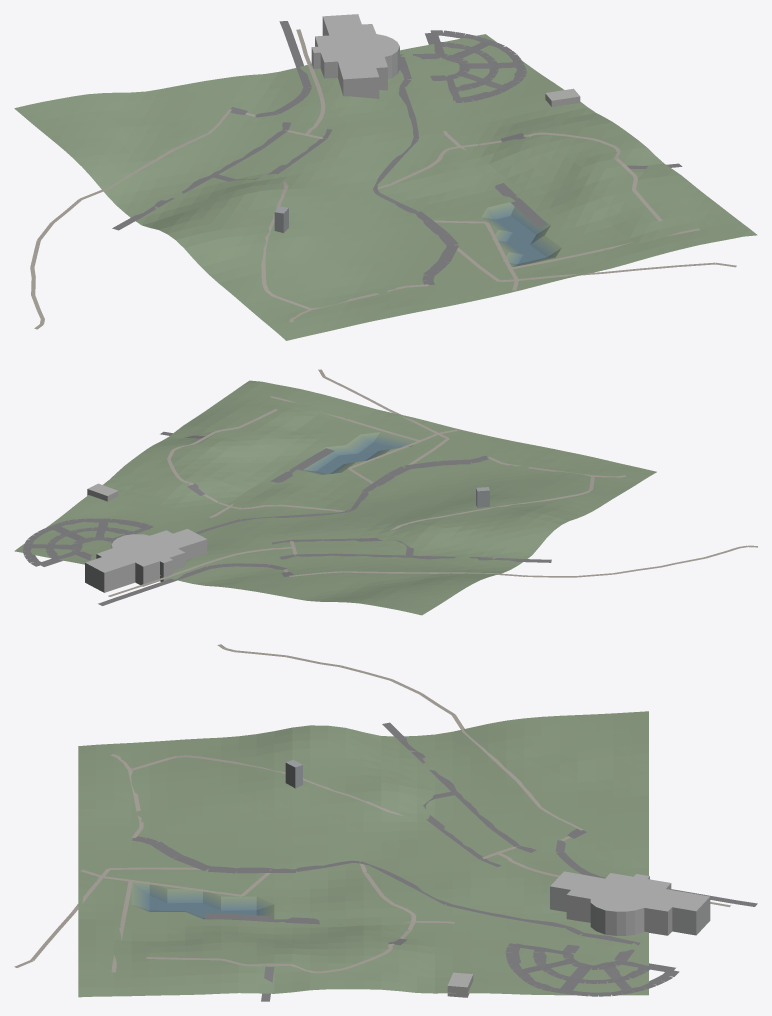
File: tile_6_-5.glb
3 views of the same model, one above another, from view 1: azimuth 30°, elevation 25°; view 2: azimuth 150°, elevation 25°; view 3: azimuth 270°, elevation 25° (orthographic). The views are drawn at different scales.
Parts seen in each view (by area): view 1: terrain, roads, buildings, paths; view 2: terrain, roads, buildings, paths; view 3: terrain, roads, buildings, paths.
Part boxes in pixels (x1,y1,x2,y2): terrain: [14, 34, 757, 340]; roads: [112, 21, 682, 284]; buildings: [274, 14, 580, 232]; paths: [30, 29, 736, 329]; terrain: [14, 380, 656, 615]; roads: [23, 431, 551, 605]; buildings: [85, 483, 489, 592]; paths: [108, 369, 757, 596]; terrain: [78, 711, 648, 997]; roads: [132, 722, 757, 1001]; buildings: [285, 760, 710, 997]; paths: [14, 644, 730, 973].
Size of the model in its own units: 363 by 24.17 by 334.
